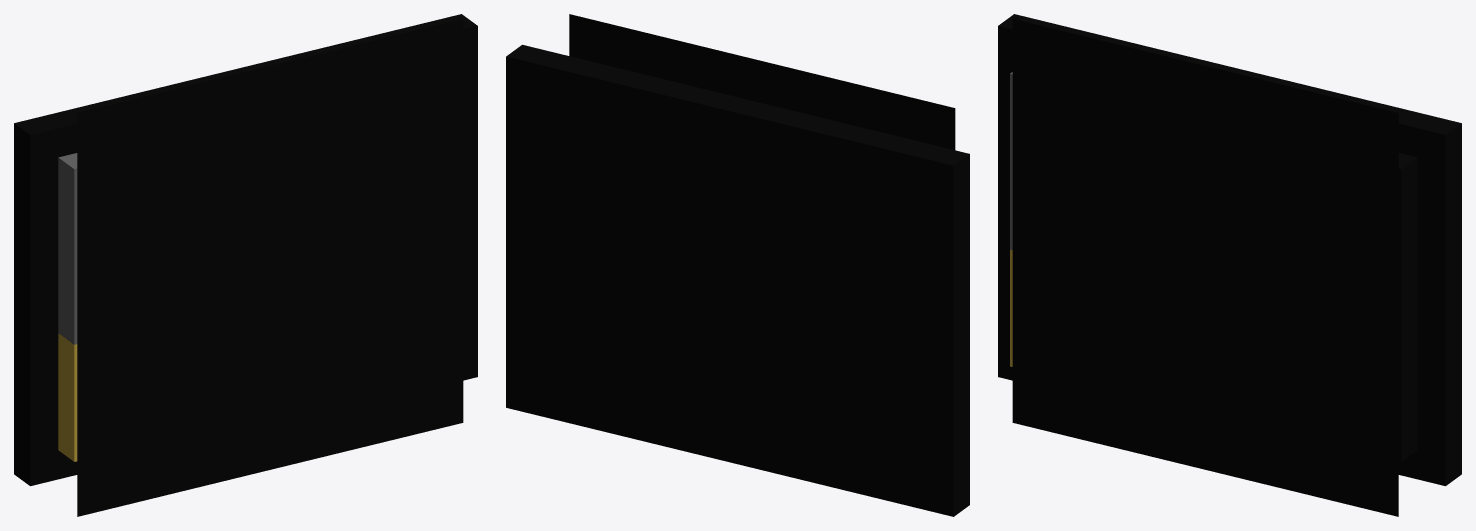
Rendered from rocklightbrake.obj.
The picture shows the model from 3 angles, left to right: view 1: azimuth 30°, elevation 25°; view 2: azimuth 150°, elevation 25°; view 3: azimuth 330°, elevation 25°; orthographic projection.
Visible parts, largest first — view 1: &BackupLight_f7f0dc_fffff_100, &BrakeLight_c42525_fffff_100, cube, glass; view 2: cube, &BackupLight_f7f0dc_fffff_100; view 3: &BackupLight_f7f0dc_fffff_100, &BrakeLight_c42525_fffff_100, cube, glass.
Part boxes in pixels (bbox=[...]): &BackupLight_f7f0dc_fffff_100: bbox=[77, 19, 463, 516]; &BrakeLight_c42525_fffff_100: bbox=[102, 51, 437, 311]; cube: bbox=[14, 14, 477, 486]; glass: bbox=[58, 72, 465, 461]; cube: bbox=[506, 44, 969, 516]; &BackupLight_f7f0dc_fffff_100: bbox=[569, 14, 955, 149]; &BackupLight_f7f0dc_fffff_100: bbox=[1012, 19, 1398, 516]; &BrakeLight_c42525_fffff_100: bbox=[1038, 51, 1373, 310]; cube: bbox=[998, 14, 1461, 486]; glass: bbox=[1010, 72, 1417, 461].
Size of the model in its own units: 0.25 by 0.2156 by 0.0313.
